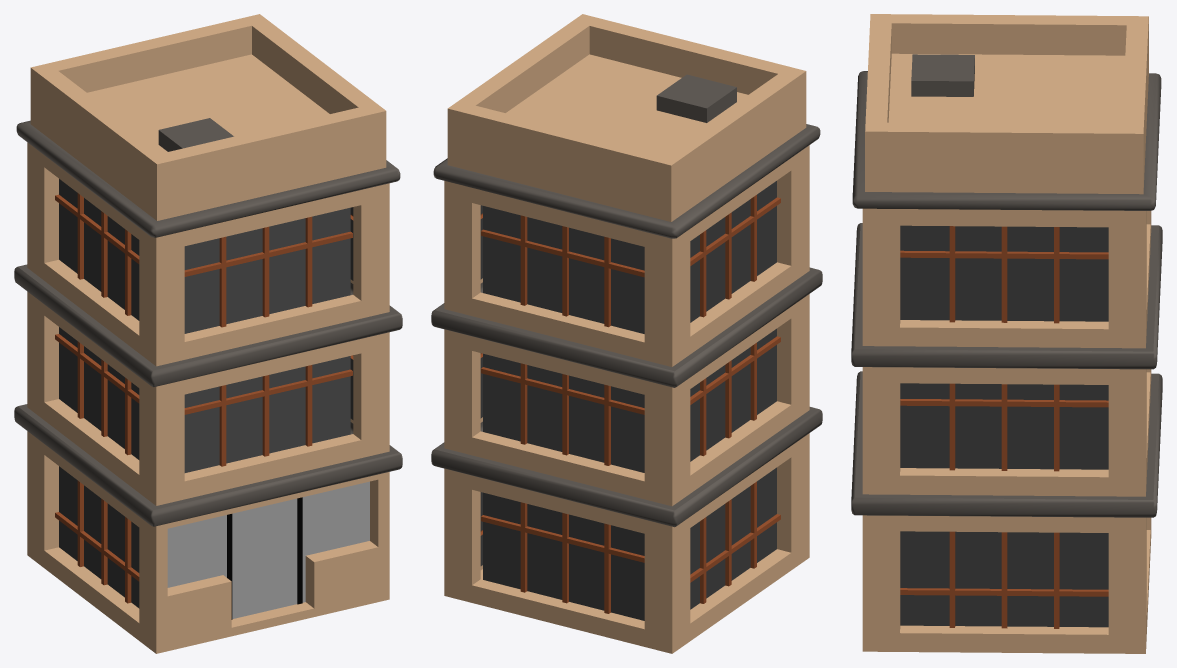
File: mid4.glb
The picture shows the model from 3 angles, left to right: view 1: azimuth 30°, elevation 25°; view 2: azimuth 150°, elevation 25°; view 3: azimuth 270°, elevation 25°; orthographic projection. The views are drawn at different scales.
Visible parts, largest first — view 1: Commercial 6; view 2: Commercial 6; view 3: Commercial 6.
Boxes of the visible parts, x1,y1,x2,y2 form: Commercial 6: (14,14,402,653); Commercial 6: (431,14,822,653); Commercial 6: (851,14,1162,653).
Bounding box in the file's own units: 8.25 × 15.16 × 8.25.
1 material, 1 textured.
